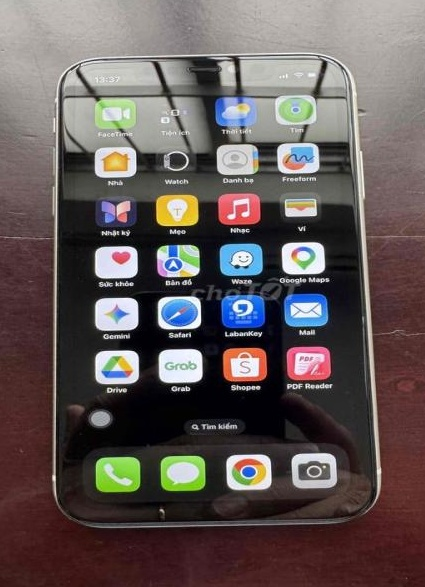scratch: (143, 503, 172, 521)
